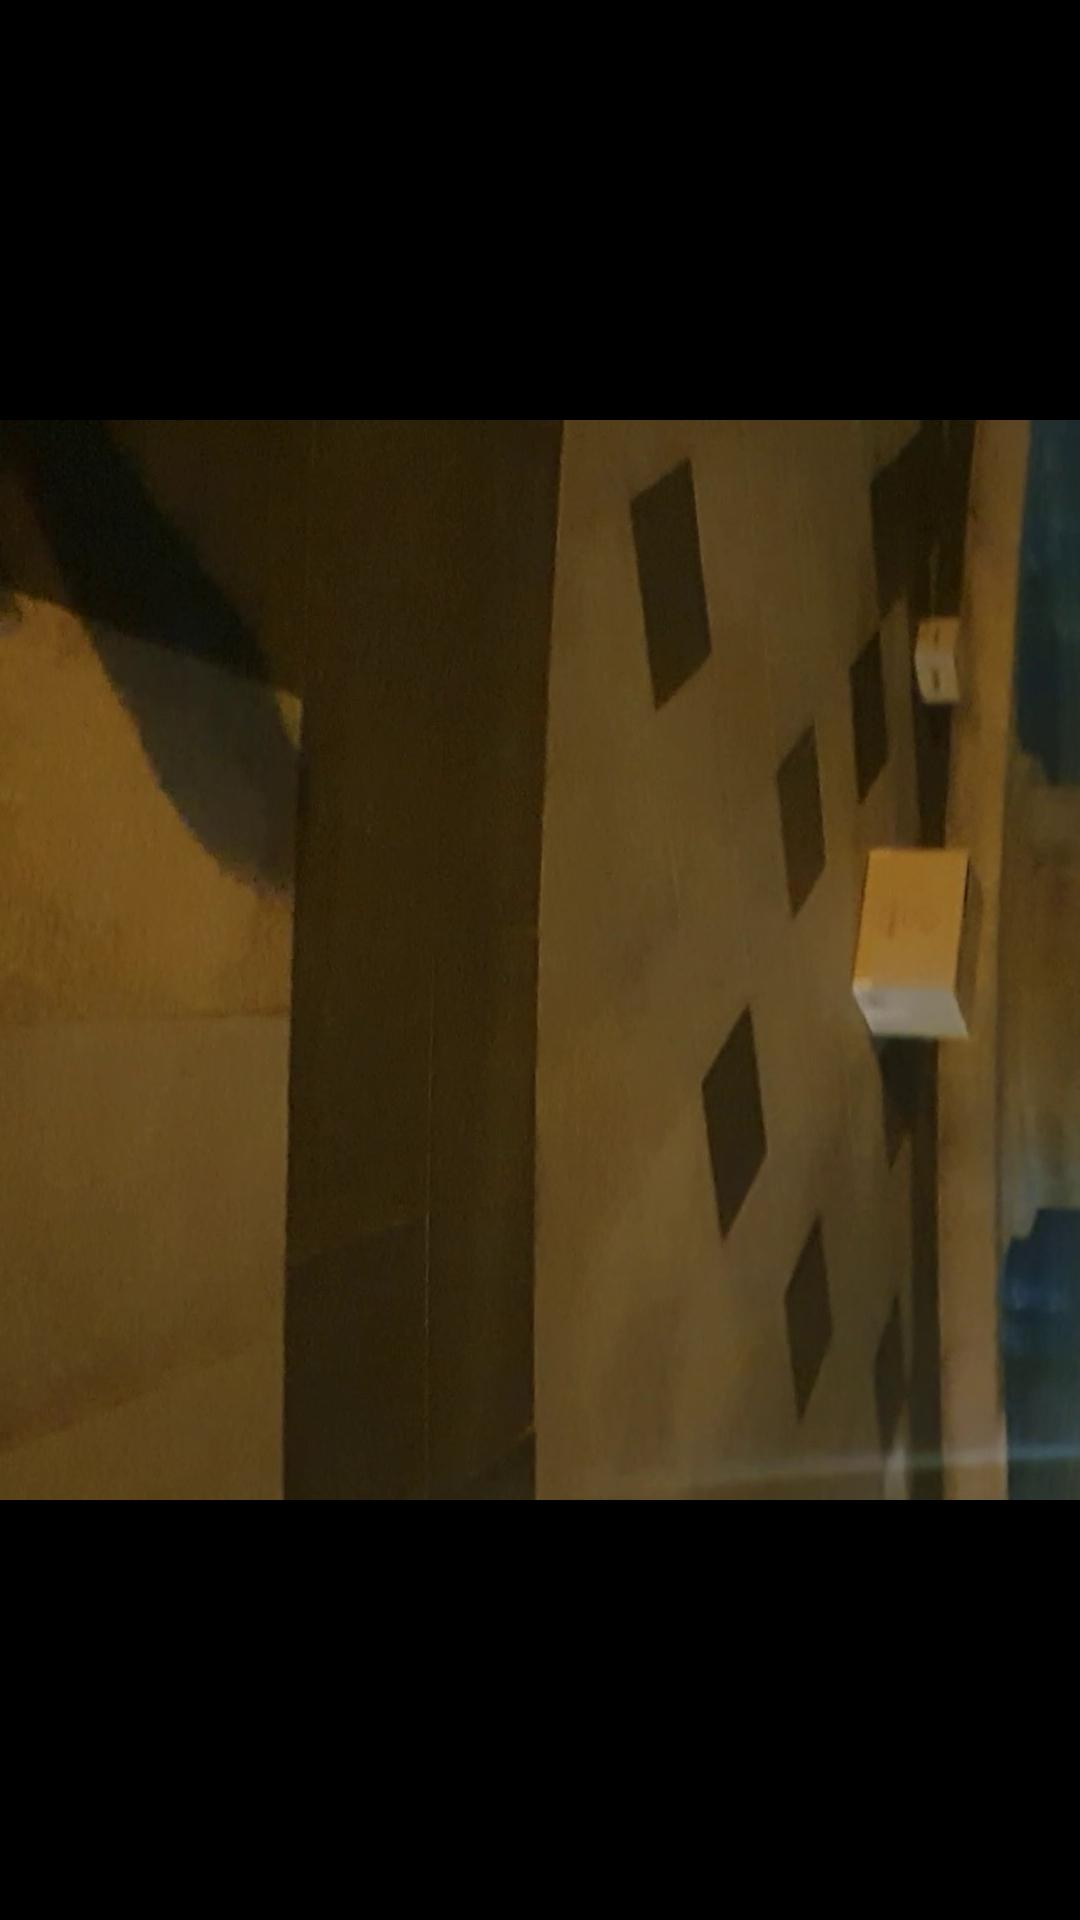Box: (845, 841, 990, 1063), (891, 607, 986, 717)
